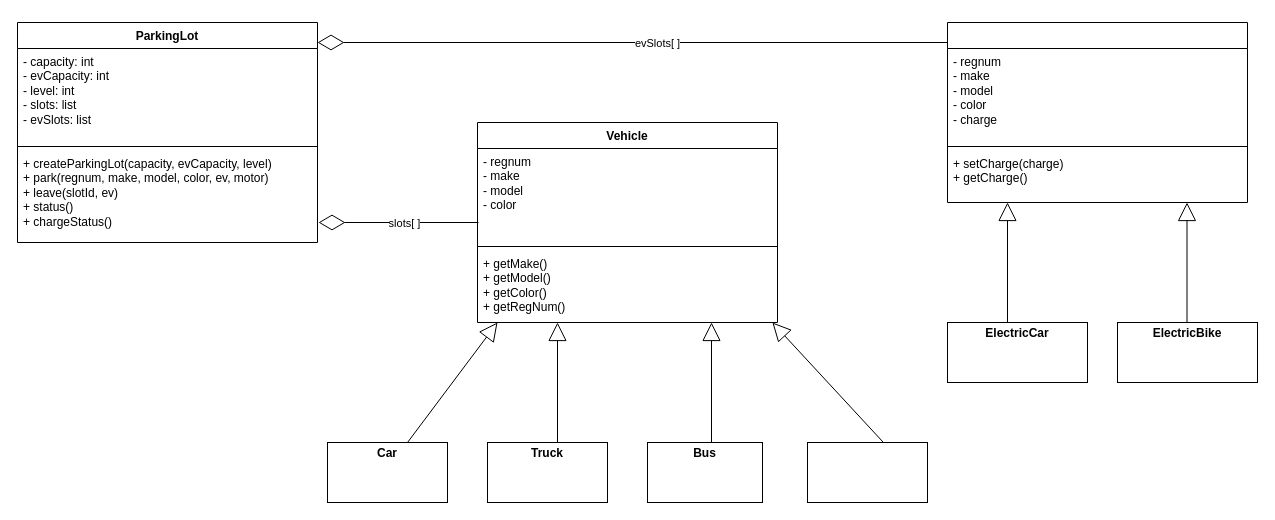
Image size: 1275x520. Some labels were removed from this diagram. The box of each missing label's shape, as (x1, y1, x2, y2) in pixels:
ElectricVehicle: (946, 22, 1248, 202)
Motorcycle: (806, 442, 928, 502)
